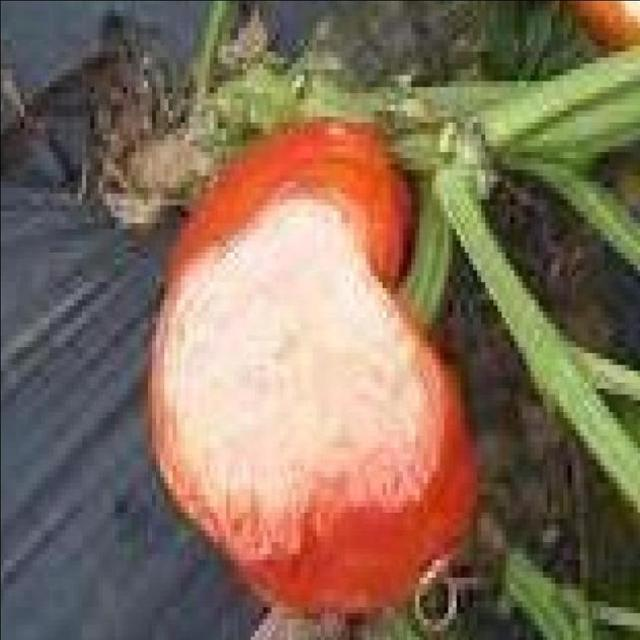Sunscald Fruit: (105, 121, 300, 369)
